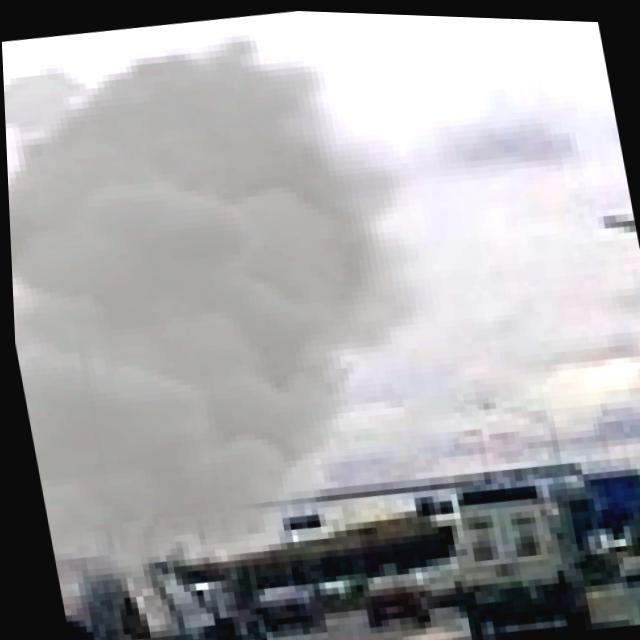smoke: (0, 0, 497, 622)
